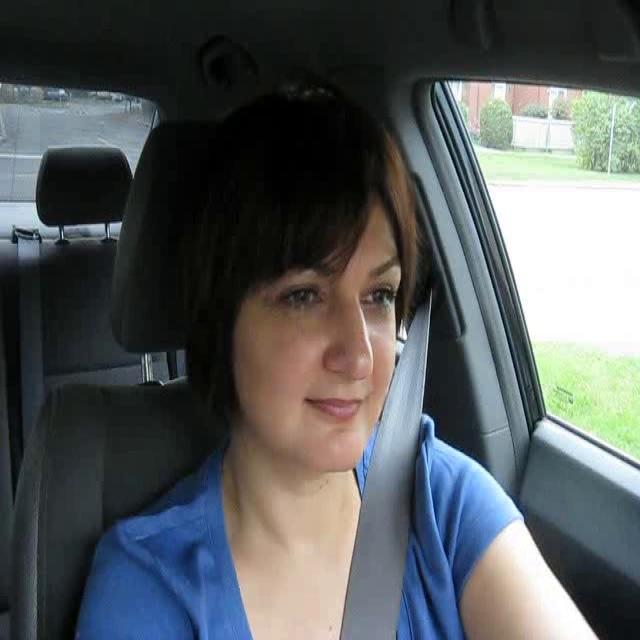close: (300, 390, 366, 426)
